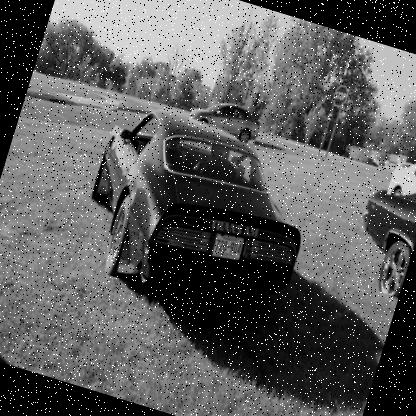Car: (70, 96, 327, 327), (342, 158, 415, 300), (187, 91, 264, 146), (386, 147, 415, 208)
